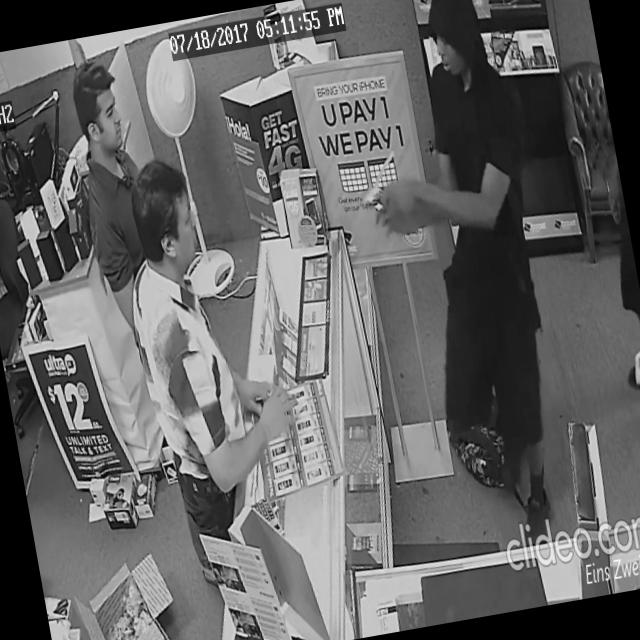gun: (359, 183, 391, 218)
person: (104, 139, 326, 578), (61, 52, 182, 376)
person with a gun: (325, 0, 594, 562)
